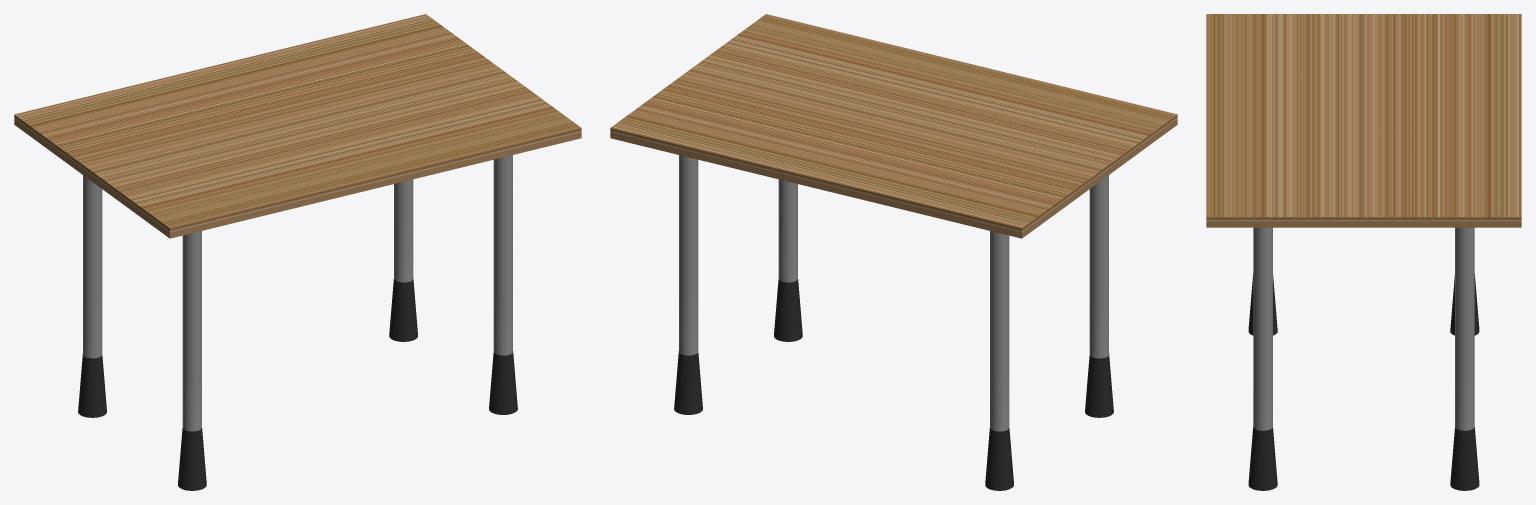
Rendered from Table.FBX.
The picture shows the model from 3 angles, left to right: view 1: azimuth 30°, elevation 25°; view 2: azimuth 150°, elevation 25°; view 3: azimuth 270°, elevation 25°; orthographic projection.
Parts seen in each view (by area): view 1: w; view 2: w; view 3: w.
Boxes of the visible parts, bbox=[...] form: w: bbox=[14, 14, 581, 490]; w: bbox=[610, 14, 1177, 490]; w: bbox=[1206, 14, 1521, 490].
Bounding box in the file's own units: 119 × 79.92 × 78.05.
Materials: 3 (1 with a texture image).
